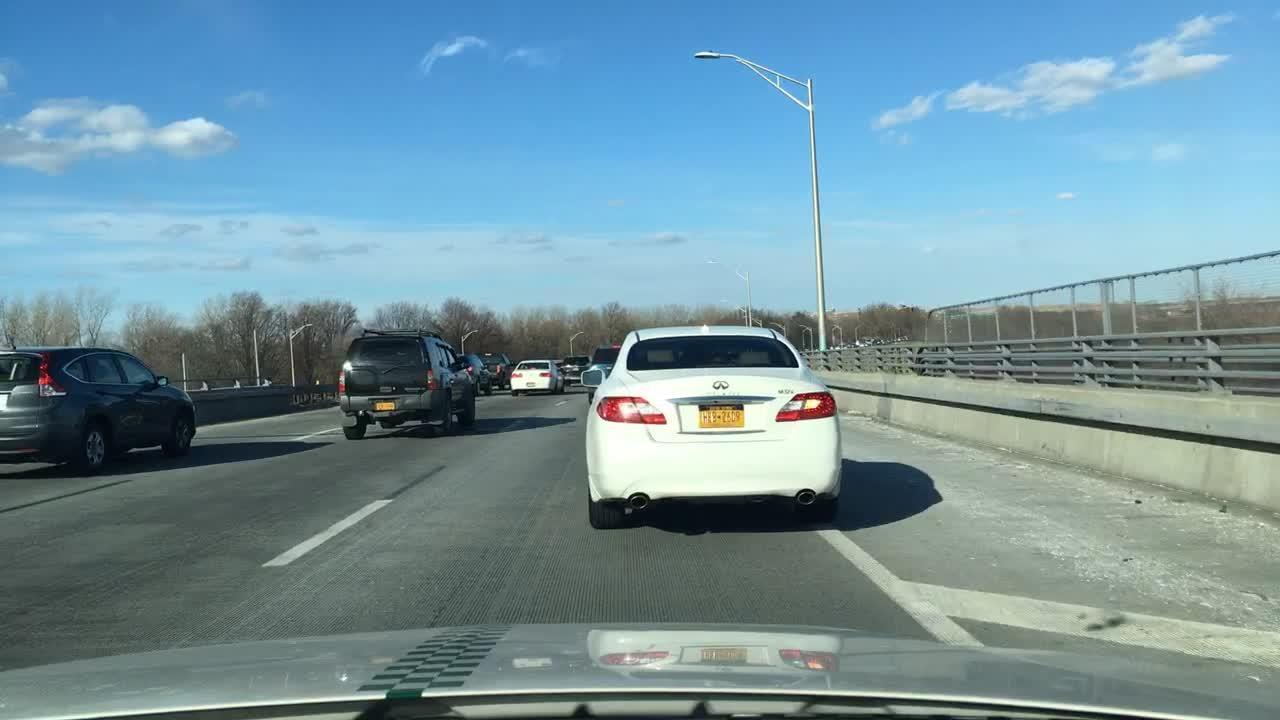Infiniti: (705, 376, 736, 399)
